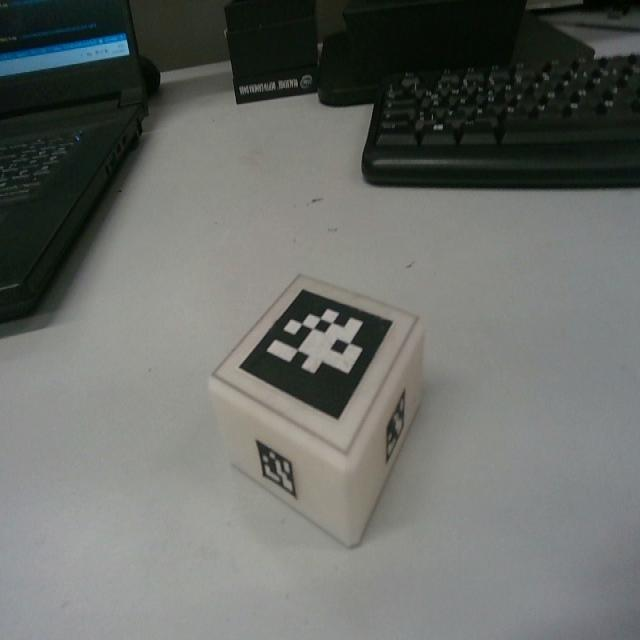Cube: (207, 271, 425, 548)
